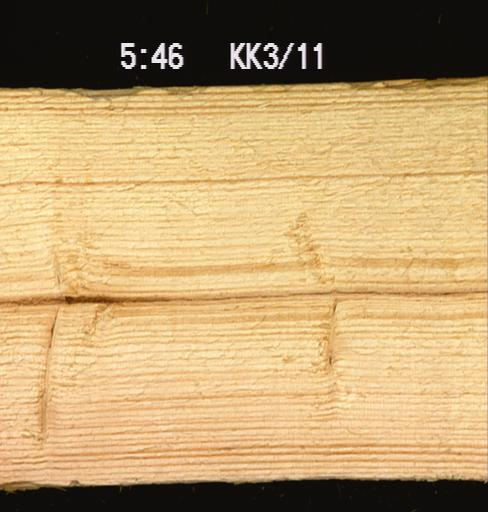split: (0, 288, 487, 307)
wave: (0, 85, 149, 96)
